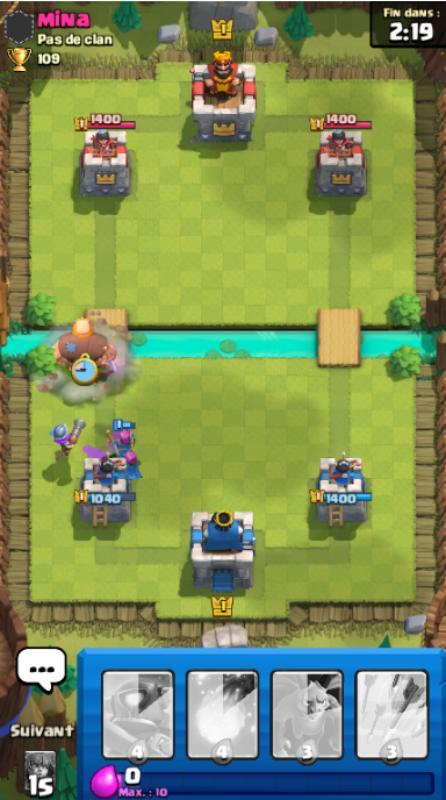player_archers: (107, 416, 138, 450), (118, 447, 148, 482)
player_giant: (48, 314, 122, 379)
player_musketeer: (47, 415, 86, 459)
